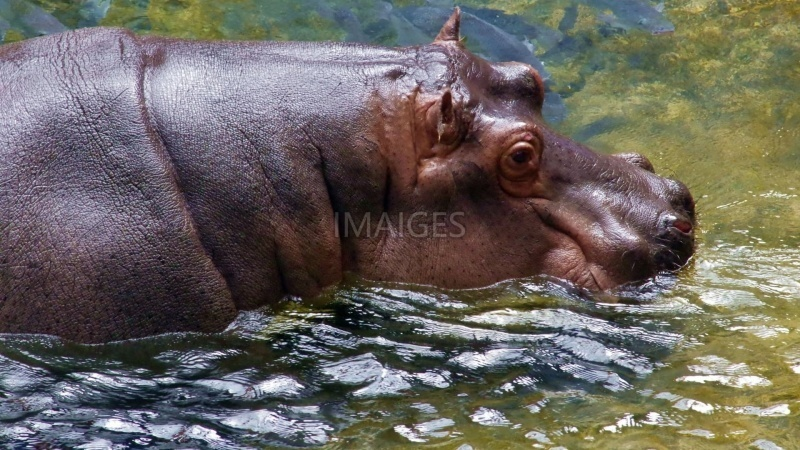hipopotamo: (1, 1, 714, 357)
